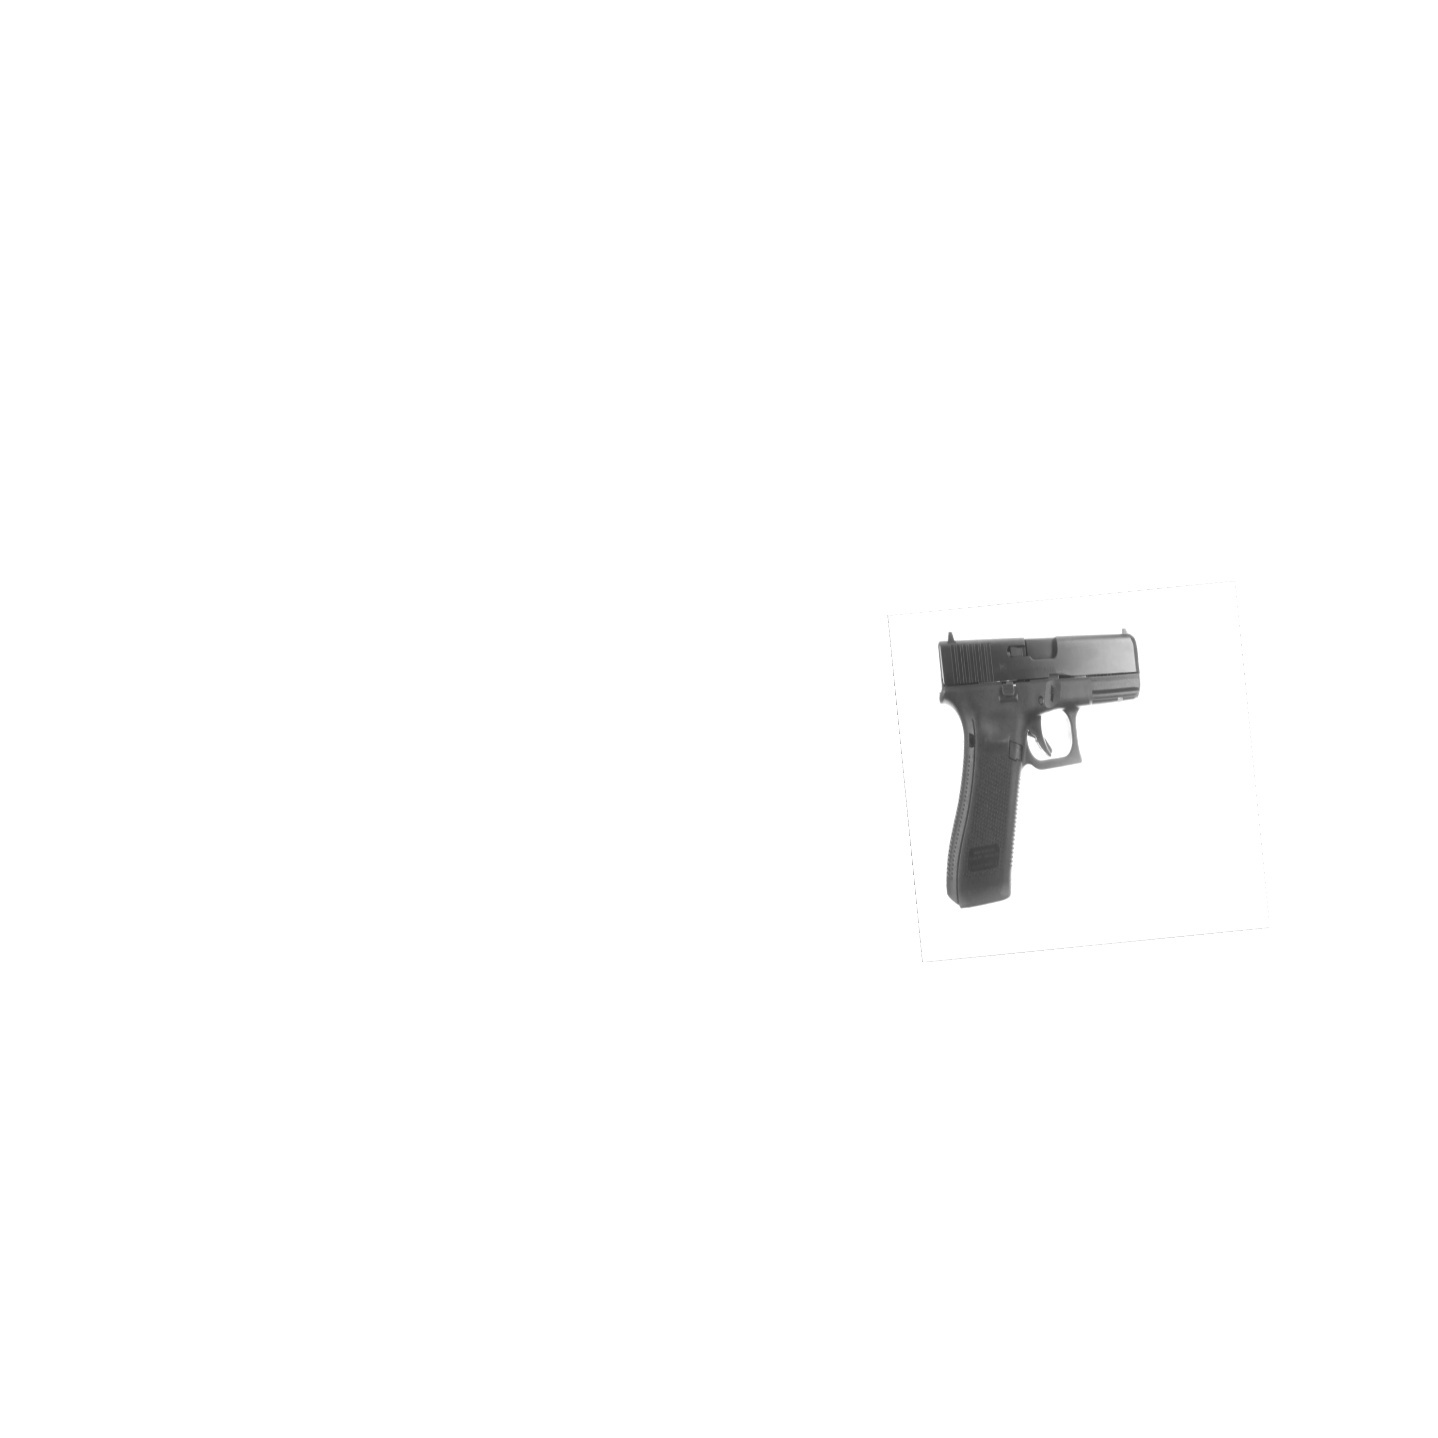gun: (927, 624, 1171, 913)
